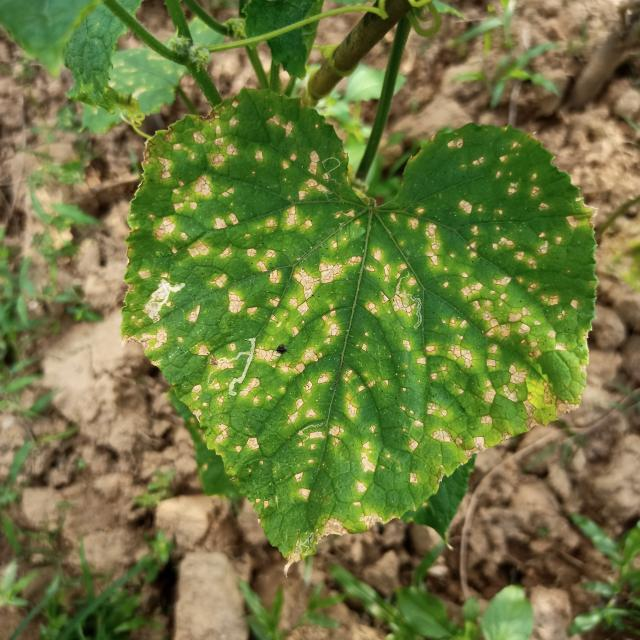disease_cucumber: (136, 113, 583, 516)
